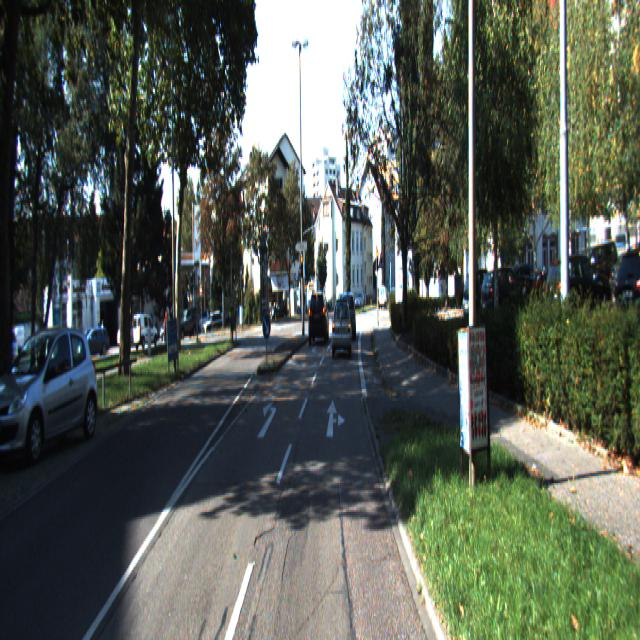Car: (0, 327, 99, 468), (480, 266, 531, 324), (463, 268, 507, 323), (309, 292, 329, 346), (332, 303, 351, 359), (341, 294, 356, 339)
